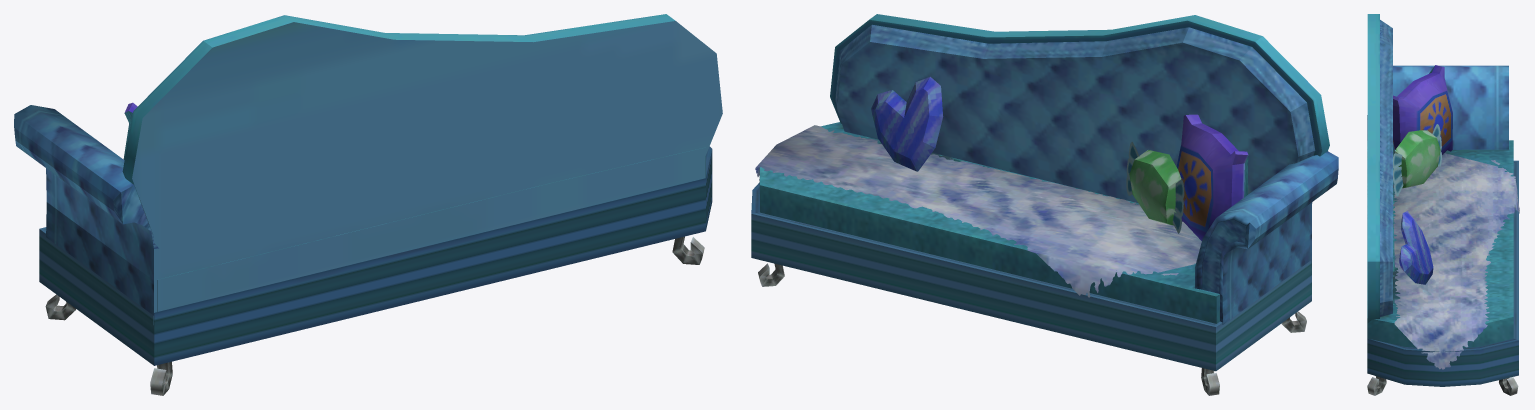
File: furni_0200034_03.FBX
3 renders of one model, left to right at view 1: azimuth 30°, elevation 25°; view 2: azimuth 150°, elevation 25°; view 3: azimuth 270°, elevation 25°, orthographic. The views are drawn at different scales.
Visible parts, largest first — view 1: furni_0200034_03; view 2: furni_0200034_03; view 3: furni_0200034_03.
Boxes of the visible parts, x1,y1,x2,y2 form: furni_0200034_03: [14, 14, 722, 395]; furni_0200034_03: [751, 14, 1338, 395]; furni_0200034_03: [1367, 14, 1519, 395].
Bounding box in the file's own units: 239 × 123 × 75.55.
1 material, 1 textured.
